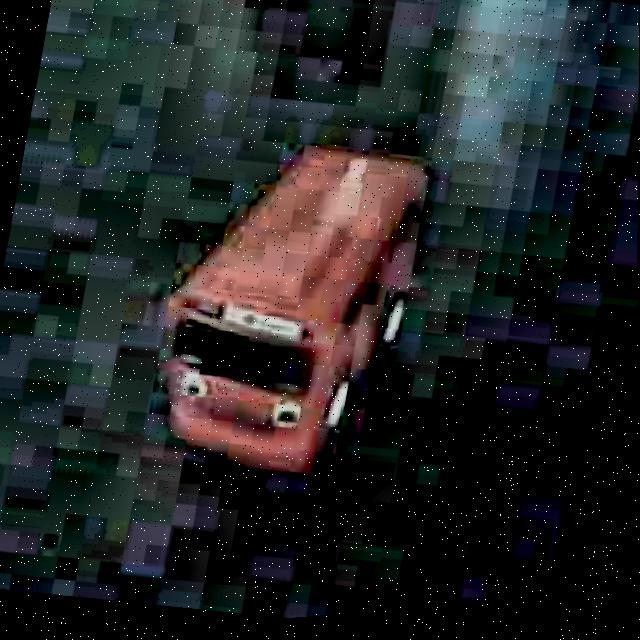bus: (119, 90, 466, 519)
